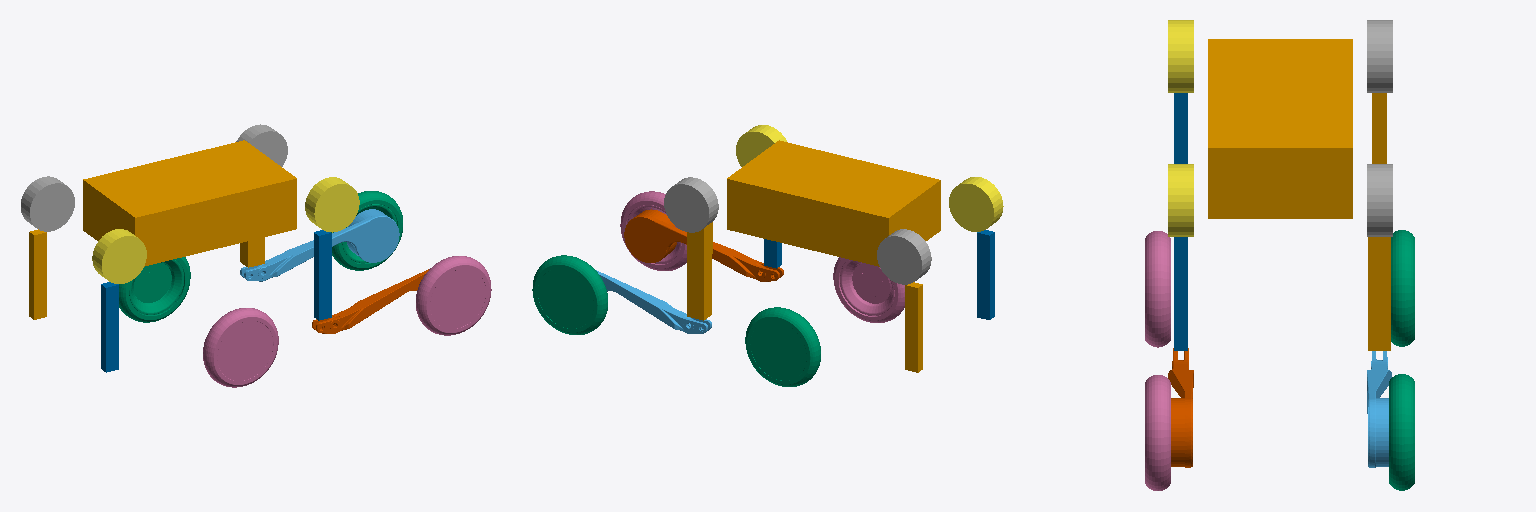
The robot description file, URDF, robot "b2w_description":
<?xml version='1.0' encoding='utf-8'?>
<robot name="b2w_description">
  <link name="base_link">
    <inertial>
      <origin xyz="0.000458 0.005261 0.000665" rpy="0 0 0" />
      <mass value="35.606" />
      <inertia ixx="0.27466" ixy="-0.000622" ixz="0.00315" iyy="1.0618" iyz="-0.00139" izz="1.1825" />
    </inertial>
    <visual>
      <origin xyz="0 0 0" rpy="0 0 0" />
      <geometry>
        <box size="0.5 0.28 0.15" />
      </geometry>
    </visual>
    <collision>
      <origin xyz="0 0 0" rpy="0 0 0" />
        <geometry>
          <box size="0.5 0.28 0.15" />
        </geometry>
    </collision>
  </link>
  <link name="lidar_link">
    <inertial>
      <origin xyz="0.34218 0 0.17851" rpy="0 0 0" />
      <mass value="4.19E-15" />
      <inertia ixx="1.68E-27" ixy="-3.2E-45" ixz="7.68E-44" iyy="1.68E-27" iyz="-9.26E-47" izz="1.68E-27" />
    </inertial>
    <collision>
      <origin xyz="0 0 -0.02" rpy="0 0 0" />
      <geometry>
        <cylinder length="0.16" radius="0.076" />
      </geometry>
    </collision>
  </link>
  <joint name="joint_lidar" type="fixed">
    <origin xyz="0.34218 0 0.17851" rpy="0 0 0" />
    <parent link="base_link" />
    <child link="lidar_link" />
    <axis xyz="0 0 0" />
  </joint>
  <link name="f_dc_link">
    <inertial>
      <origin xyz="3.47E-18 0 5.55E-17" rpy="0 0 0" />
      <mass value="4.19E-15" />
      <inertia ixx="1.68E-27" ixy="-9.81E-45" ixz="-2.54E-44" iyy="1.68E-27" iyz="0" izz="1.68E-27" />
    </inertial>
  </link>
  <joint name="joint_f_dc" type="fixed">
    <origin xyz="0.42161 0.025 0.061851" rpy="-2.3562 0 -1.5708" />
    <parent link="base_link" />
    <child link="f_dc_link" />
    <axis xyz="0 0 0" />
  </joint>
  <link name="r_dc_link">
    <inertial>
      <origin xyz="-7.46E-16 -3.33E-16 -1.11E-15" rpy="0 0 0" />
      <mass value="4.19E-15" />
      <inertia ixx="1.68E-27" ixy="-4.31E-44" ixz="2.48E-45" iyy="1.68E-27" iyz="0" izz="1.68E-27" />
    </inertial>
  </link>
  <joint name="joint_r_dc" type="fixed">
    <origin xyz="-0.42244 -0.025 0.038026" rpy="-2.3562 0 1.5708" />
    <parent link="base_link" />
    <child link="r_dc_link" />
    <axis xyz="0 0 0" />
  </joint>
  <link name="imu_link">
    <inertial>
      <origin xyz="-2.02E-17 1.73E-17 -1.39E-17" rpy="0 0 0" />
      <mass value="4.19E-15" />
      <inertia ixx="1.68E-27" ixy="1.84E-44" ixz="-7.35E-44" iyy="1.68E-27" iyz="-3.67E-44" izz="1.68E-27" />
    </inertial>
  </link>
  <joint name="joint_imu" type="fixed">
    <origin xyz="0 -0.02341 0.04927" rpy="0 0 0" />
    <parent link="base_link" />
    <child link="imu_link" />
    <axis xyz="0 0 0" />
  </joint>
  <link name="head_Link">
    <inertial>
      <origin xyz="0.33989 -0.000168 0.12029" rpy="0 0 0" />
      <mass value="3.6885" />
      <inertia ixx="0.026455" ixy="3.15E-05" ixz="0.00166" iyy="0.029221" iyz="-3.27E-05" izz="0.010918" />
    </inertial>
    <collision>
      <origin xyz="0.41 0 0.005" rpy="0 0 0" />
      <geometry>
        <box size="0.04 0.12 0.14" />
      </geometry>
    </collision>
  </link>
  <joint name="joint_head" type="fixed" dont_collapse="true">
    <origin xyz="0 0 0" rpy="0 0 0" />
    <parent link="base_link" />
    <child link="head_Link" />
    <axis xyz="0 0 0" />
  </joint>
  <link name="tail_link">
    <inertial>
      <origin xyz="-0.37448 0.000488 0.006495" rpy="0 0 0" />
      <mass value="0.795" />
      <inertia ixx="0.0028118" ixy="1.95E-05" ixz="-7.87E-06" iyy="0.0047506" iyz="-1.57E-05" izz="0.0029154" />
    </inertial>
    <collision>
      <origin xyz="-0.405 0 0.005" rpy="0 0 0" />
      <geometry>
        <box size="0.025 0.12 0.14" />
      </geometry>
    </collision>
  </link>
  <joint name="joint_tail" type="fixed" dont_collapse="true">
    <origin xyz="0 0 0" rpy="0 0 0" />
    <parent link="base_link" />
    <child link="tail_link" />
    <axis xyz="0 0 0" />
  </joint>
  <link name="FL_hip">
    <inertial>
      <origin xyz="-0.003841 -0.009068 0" rpy="0 0 0" />
      <mass value="2.673" />
      <inertia ixx="0.0033188" ixy="7.16E-05" ixz="-3.77E-07" iyy="0.0048743" iyz="4E-09" izz="0.0037087" />
    </inertial>
    <visual>
      <origin xyz="0 0.12 0" rpy="1.5707963267948966 0 0" />
      <geometry>
        <cylinder length="0.05" radius="0.07" />
      </geometry>
    </visual>
    <collision>
      <origin xyz="0 0.12 0" rpy="1.5707963267948966 0 0" />
      <geometry>
        <cylinder length="0.05" radius="0.07" />
      </geometry>
    </collision>
  </link>
  <joint name="FL_hip_joint" type="revolute">
    <origin xyz="0.3285 0.072 0" rpy="0 0 0" />
    <parent link="base_link" />
    <child link="FL_hip" />
    <axis xyz="1 0 0" />
    <limit lower="-0.87" upper="0.87" effort="200" velocity="23" />
  </joint>
  <link name="FL_thigh">
    <inertial>
      <origin xyz="-0.006279 -0.032049 -0.057835" rpy="0 0 0" />
      <mass value="4.536" />
      <inertia ixx="0.062299" ixy="0.00087781" ixz="-0.0036475" iyy="0.061399" iyz="0.0083537" izz="0.0081997" />
    </inertial>
    <visual>
      <origin xyz="-0.025 0 -0.16" rpy="0 1.57 0" />
      <geometry>
        <box size="0.32 0.0445 0.054" />
      </geometry>
    </visual>
    <collision>
      <origin xyz="-0.025 0 -0.16" rpy="0 1.57 0" />
      <geometry>
        <box size="0.32 0.0445 0.054" />
      </geometry>
    </collision>
  </link>
  <joint name="FL_thigh_joint" type="revolute">
    <origin xyz="0 0.11973 0" rpy="0 0 0" />
    <parent link="FL_hip" />
    <child link="FL_thigh" />
    <axis xyz="0 1 0" />
    <limit lower="-0.94" upper="4.69" effort="200" velocity="23" />
  </joint>
  <link name="FL_calf">
    <inertial>
      <origin xyz="0.005278 0.017301 -0.29778" rpy="0 0 0" />
      <mass value="2.2906" />
      <inertia ixx="0.029283" ixy="0.000221" ixz="-0.001064" iyy="0.030868" iyz="0.002093" izz="0.00326" />
    </inertial>
    <visual>
      <origin xyz="0 0 0" rpy="0 0 0" />
      <geometry>
        <mesh filename="../meshes/FL_calf.stl" />
      </geometry>
    </visual>
    <collision>
      <origin xyz="0 0 0" rpy="0 0 0" />
      <geometry>
        <mesh filename="../meshes/FL_calf.stl" />
      </geometry>
    </collision>
  </link>
  <joint name="FL_calf_joint" type="revolute">
    <origin xyz="0 -8.8203E-05 -0.35" rpy="0 0 0" />
    <parent link="FL_thigh" />
    <child link="FL_calf" />
    <axis xyz="0 1 0" />
    <limit lower="-2.82" upper="-0.43" effort="320" velocity="14" />
  </joint>
  <link name="FL_foot">
    <inertial>
      <origin xyz="-0.000991 0.051053 -0.00113" rpy="0 0 0" />
      <mass value="1.083" />
      <inertia ixx="0.004121" ixy="6E-06" ixz="-4.8E-05" iyy="0.007776" iyz="7E-06" izz="0.004108" />
    </inertial>
    <visual>
      <origin xyz="0 0 0" rpy="0 0 0" />
      <geometry>
        <mesh filename="../meshes/Left_wheel.stl" />
      </geometry>
    </visual>
    <collision>
      <origin xyz="0 0 0" rpy="0 0 0" />
      <geometry>
        <mesh filename="../meshes/Left_wheel.stl" />
      </geometry>
    </collision>
  </link>
  <joint name="FL_foot_joint" type="revolute">
    <origin xyz="0 0 -0.35" rpy="0 0 0" />
    <parent link="FL_calf" />
    <child link="FL_foot" />
    <axis xyz="0 1 0" />
    <limit lower="-999999" upper="999999" effort="20" velocity="50" />
  </joint>
  <link name="FR_hip">
    <inertial>
      <origin xyz="-0.003841 0.009068 0" rpy="0 0 0" />
      <mass value="2.673" />
      <inertia ixx="0.003318772" ixy="-7.16E-05" ixz="-3.77E-07" iyy="0.004874327" iyz="-4E-09" izz="0.003708731" />
    </inertial>
    <visual>
      <origin xyz="0 -0.12 0" rpy="1.5707963267948966 0 0" />
      <geometry>
        <cylinder length="0.05" radius="0.07" />
      </geometry>
    </visual>
    <collision>
      <origin xyz="0 -0.12 0" rpy="1.5707963267948966 0 0" />
      <geometry>
        <cylinder length="0.05" radius="0.07" />
      </geometry>
    </collision>
  </link>
  <joint name="FR_hip_joint" type="revolute">
    <origin xyz="0.3285 -0.072 0" rpy="0 0 0" />
    <parent link="base_link" />
    <child link="FR_hip" />
    <axis xyz="1 0 0" />
    <limit lower="-0.87" upper="0.87" effort="200" velocity="23" />
  </joint>
  <link name="FR_thigh">
    <inertial>
      <origin xyz="-0.006279 0.032049 -0.057835" rpy="0 0 0" />
      <mass value="4.536" />
      <inertia ixx="0.06229908" ixy="-0.000877808" ixz="-0.003647464" iyy="0.06139927" iyz="-0.008353671" izz="0.008199745" />
    </inertial>
    <visual>
      <origin rpy="0 1.57 0" xyz="-0.03 0 -0.2" />
      <geometry>
        <box size="0.25 0.028 0.04" />
      </geometry>
    </visual>
    <collision>
      <origin rpy="0 1.57 0" xyz="-0.03 0 -0.2" />
      <geometry>
        <box size="0.25 0.028 0.04" />
      </geometry>
    </collision>
  </link>
  <joint name="FR_thigh_joint" type="revolute">
    <origin xyz="0 -0.11973 0" rpy="0 0 0" />
    <parent link="FR_hip" />
    <child link="FR_thigh" />
    <axis xyz="0 1 0" />
    <limit lower="-0.94" upper="4.69" effort="200" velocity="23" />
  </joint>
  <link name="FR_calf">
    <inertial>
      <origin xyz="0.005278 -0.017301 -0.297775" rpy="0 0 0" />
      <mass value="2.290557" />
      <inertia ixx="0.029283" ixy="-0.000221" ixz="-0.001064" iyy="0.030868" iyz="-0.002093" izz="0.00326" />
    </inertial>
    <visual>
      <origin xyz="0 0 0" rpy="0 0 0" />
      <geometry>
        <mesh filename="../meshes/FR_calf.stl" />
      </geometry>
    </visual>
    <collision>
      <origin xyz="0 0 0" rpy="0 0 0" />
      <geometry>
        <mesh filename="../meshes/FR_calf.stl" />
      </geometry>
    </collision>
  </link>
  <joint name="FR_calf_joint" type="revolute">
    <origin xyz="0 8.8205E-05 -0.35" rpy="0 0 0" />
    <parent link="FR_thigh" />
    <child link="FR_calf" />
    <axis xyz="0 1 0" />
    <limit lower="-2.82" upper="-0.43" effort="320" velocity="14" />
  </joint>
  <link name="FR_foot">
    <inertial>
      <origin xyz="-0.000991 -0.051053 -0.00113" rpy="0 0 0" />
      <mass value="1.083" />
      <inertia ixx="0.004121" ixy="-6E-06" ixz="-4.8E-05" iyy="0.007776" iyz="-7E-06" izz="0.004108" />
    </inertial>
    <visual>
      <origin xyz="0.0 -0.0 0" rpy="0 -1.5708 0" />
      <geometry>
        <mesh filename="../meshes/Right_wheel.stl" />

        <!-- <cylinder radius="0.112" length="0.05"/>  -->
 
      </geometry>
    </visual>
    <collision>
      <origin xyz="0.0 -0.0 0" rpy="0 -1.5708 0" />
      <geometry>
        <mesh filename="../meshes/Right_wheel.stl" />

        <!-- <cylinder radius="0.112" length="0.05"/>  -->
 
      </geometry>
    </collision>
  </link>
  <joint name="FR_foot_joint" type="revolute">
    <origin xyz="0 -0.001 -0.35" rpy="0 0 0" />
    <parent link="FR_calf" />
    <child link="FR_foot" />
    <axis xyz="0 1 0" />
    <limit lower="-999999" upper="999999" effort="20" velocity="50" />
  </joint>
  <link name="RL_hip">
    <inertial>
      <origin xyz="0.003841 -0.009068 0" rpy="0 0 0" />
      <mass value="2.673" />
      <inertia ixx="0.0033188" ixy="-7.16E-05" ixz="3.77E-07" iyy="0.0048743" iyz="4E-09" izz="0.0037087" />
    </inertial>
    <visual>
      <origin xyz="0 0.12 0" rpy="1.5707963267948966 0 0" />
      <geometry>
        <cylinder length="0.05" radius="0.07" />
      </geometry>
    </visual>
    <collision>
      <origin xyz="0 0.12 0" rpy="1.5707963267948966 0 0" />
      <geometry>
        <cylinder length="0.05" radius="0.07" />
      </geometry>
    </collision>
  </link>
  <joint name="RL_hip_joint" type="revolute">
    <origin xyz="-0.3285 0.072 0" rpy="0 0 0" />
    <parent link="base_link" />
    <child link="RL_hip" />
    <axis xyz="1 0 0" />
    <limit lower="-0.87" upper="0.87" effort="200" velocity="23" />
  </joint>
  <link name="RL_thigh">
    <inertial>
      <origin xyz="-0.006279 -0.032049 -0.057835" rpy="0 0 0" />
      <mass value="4.536" />
      <inertia ixx="0.06229908" ixy="0.000877808" ixz="-0.003647464" iyy="0.06139927" iyz="0.008353671" izz="0.008199745" />
    </inertial>
    <visual>
      <origin rpy="0 1.57 0" xyz="-0.03 0 -0.2" />
      <geometry>
        <box size="0.25 0.028 0.04" />
      </geometry>
    </visual>
    <collision>
      <origin rpy="0 1.57 0" xyz="-0.03 0 -0.2" />
      <geometry>
        <box size="0.25 0.028 0.04" />
      </geometry>
    </collision>
  </link>
  <joint name="RL_thigh_joint" type="revolute">
    <origin xyz="0 0.11973 0" rpy="0 0 0" />
    <parent link="RL_hip" />
    <child link="RL_thigh" />
    <axis xyz="0 1 0" />
    <limit lower="-0.94" upper="4.69" effort="200" velocity="23" />
  </joint>
  <link name="RL_calf">
    <inertial>
      <origin xyz="0.005278 0.017301 -0.29778" rpy="0 0 0" />
      <mass value="2.2906" />
      <inertia ixx="0.029283" ixy="0.000221" ixz="-0.001064" iyy="0.030868" iyz="0.002093" izz="0.00326" />
    </inertial>
    <visual>
      <origin xyz="0 0 0" rpy="0 0 0" />
      <geometry>
        <mesh filename="../meshes/RL_calf.stl" />
      </geometry>
    </visual>
    <collision>
      <origin xyz="0 0 0" rpy="0 0 0" />
      <geometry>
        <mesh filename="../meshes/RL_calf.stl" />
      </geometry>
    </collision>
  </link>
  <joint name="RL_calf_joint" type="revolute">
    <origin xyz="0 -8.8205E-05 -0.35" rpy="0 0 0" />
    <parent link="RL_thigh" />
    <child link="RL_calf" />
    <axis xyz="0 1 0" />
    <limit lower="-2.82" upper="-0.43" effort="320" velocity="14" />
  </joint>
  <link name="RL_foot">
    <inertial>
      <origin xyz="-0.000991 0.051053 -0.00113" rpy="0 0 0" />
      <mass value="1.083" />
      <inertia ixx="0.004121" ixy="6E-06" ixz="-4.8E-05" iyy="0.007776" iyz="7E-06" izz="0.004108" />
    </inertial>
    <visual>
      <origin xyz="0 0 0" rpy="0 0 0" />
      <geometry>
        <mesh filename="../meshes/Left_wheel.stl" />
      </geometry>
    </visual>
    <collision>
      <origin xyz="0 0 0" rpy="0 0 0" />
      <geometry>
        <mesh filename="../meshes/Left_wheel.stl" />
      </geometry>
    </collision>
  </link>
  <joint name="RL_foot_joint" type="revolute">
    <origin xyz="0 0 -0.35" rpy="0 0 0" />
    <parent link="RL_calf" />
    <child link="RL_foot" />
    <axis xyz="0 1 0" />
    <limit lower="-999999" upper="999999" effort="20" velocity="50" />
  </joint>
  <link name="RR_hip">
    <inertial>
      <origin xyz="0.003841 0.009068 0" rpy="0 0 0" />
      <mass value="2.673" />
      <inertia ixx="0.0033188" ixy="7.16E-05" ixz="3.77E-07" iyy="0.0048743" iyz="-4E-09" izz="0.0037087" />
    </inertial>
    <visual>
      <origin xyz="0 -0.12 0" rpy="1.5707963267948966 0 0" />
      <geometry>
        <cylinder length="0.05" radius="0.07" />
      </geometry>
    </visual>
    <collision>
      <origin xyz="0 -0.12 0" rpy="1.5707963267948966 0 0" />
      <geometry>
        <cylinder length="0.05" radius="0.07" />
      </geometry>
    </collision>
  </link>
  <joint name="RR_hip_joint" type="revolute">
    <origin xyz="-0.3285 -0.072 0" rpy="0 0 0" />
    <parent link="base_link" />
    <child link="RR_hip" />
    <axis xyz="1 0 0" />
    <limit lower="-0.87" upper="0.87" effort="200" velocity="23" />
  </joint>
  <link name="RR_thigh">
    <inertial>
      <origin xyz="-0.006279 0.032049 -0.057835" rpy="0 0 0" />
      <mass value="4.536" />
      <inertia ixx="0.062299" ixy="-0.00087781" ixz="-0.0036475" iyy="0.061399" iyz="-0.0083537" izz="0.0081997" />
    </inertial>
    <visual>
      <origin rpy="0 1.57 0" xyz="-0.03 0 -0.2" />
      <geometry>
        <box size="0.25 0.028 0.04" />
      </geometry>
    </visual>
    <collision>
      <origin rpy="0 1.57 0" xyz="-0.03 0 -0.2" />
      <geometry>
        <box size="0.25 0.028 0.04" />
      </geometry>
    </collision>
  </link>
  <joint name="RR_thigh_joint" type="revolute">
    <origin xyz="0 -0.11973 0" rpy="0 0 0" />
    <parent link="RR_hip" />
    <child link="RR_thigh" />
    <axis xyz="0 1 0" />
    <limit lower="-0.94" upper="4.69" effort="200" velocity="23" />
  </joint>
  <link name="RR_calf">
    <inertial>
      <origin xyz="0.005278 -0.017301 -0.29778" rpy="0 0 0" />
      <mass value="2.2906" />
      <inertia ixx="0.029283" ixy="-0.000221" ixz="-0.001064" iyy="0.030868" iyz="-0.002093" izz="0.00326" />
    </inertial>
    <visual>
      <origin xyz="0 0 0" rpy="0 0 0" />
      <geometry>
        <mesh filename="../meshes/RR_calf.stl" />
      </geometry>
    </visual>
    <collision>
      <origin xyz="0 0 0" rpy="0 0 0" />
      <geometry>
        <mesh filename="../meshes/RR_calf.stl" />
      </geometry>
    </collision>
  </link>
  <joint name="RR_calf_joint" type="revolute">
    <origin xyz="0 8.8205E-05 -0.35" rpy="0 0 0" />
    <parent link="RR_thigh" />
    <child link="RR_calf" />
    <axis xyz="0 1 0" />
    <limit lower="-2.82" upper="-0.43" effort="320" velocity="14" />
  </joint>
  <link name="RR_foot">
    <inertial>
      <origin xyz="-0.000991 -0.051053 -0.00113" rpy="0 0 0" />
      <mass value="1.083" />
      <inertia ixx="0.004121" ixy="-6E-06" ixz="-4.8E-05" iyy="0.007776" iyz="-7E-06" izz="0.004108" />
    </inertial>
    <visual>
      <origin xyz="0.0 -0 0" rpy="0 -1.5708 0" />
      <geometry>
        <mesh filename="../meshes/Right_wheel.stl" />
        
        <!-- <cylinder radius="0.112" length="0.05"/> 根据轮子半径和厚度修改 -->
 
      </geometry>
    </visual>
    <collision>
      <origin xyz="0.0 -0 0" rpy="0 -1.5708 0" />
      <geometry>
        <mesh filename="../meshes/Right_wheel.stl" />

        <!-- <cylinder radius="0.112" length="0.05"/>  -->
 
      </geometry>
    </collision>
  </link>
  <joint name="RR_foot_joint" type="revolute">
    <origin xyz="0 -0.001 -0.35" rpy="0 0 0" />
    <parent link="RR_calf" />
    <child link="RR_foot" />
    <axis xyz="0 1 0" />
    <limit lower="-999999" upper="999999" effort="20" velocity="50" />
  </joint>
  <link name="f_oc_link">
    <inertial>
      <origin xyz="-3.39E-15 1.46E-16 -6.11E-16" rpy="0 0 0" />
      <mass value="4.19E-15" />
      <inertia ixx="1.68E-27" ixy="-3.89E-44" ixz="5.04E-44" iyy="1.68E-27" iyz="2.81E-45" izz="1.68E-27" />
    </inertial>
  </link>
  <joint name="f_oc_link" type="fixed">
    <origin xyz="0.3993 0 -0.01576" rpy="-1.5708 0 -1.5708" />
    <parent link="base_link" />
    <child link="f_oc_link" />
    <axis xyz="0 0 0" />
  </joint>
  <link name="logo_link">
    <inertial>
      <origin xyz="0 -2.3E-23 0" rpy="0 0 0" />
      <mass value="4.19E-15" />
      <inertia ixx="1.68E-27" ixy="0" ixz="0" iyy="1.68E-27" iyz="0" izz="1.68E-27" />
    </inertial>
  </link>
  <joint name="joint_logo" type="fixed">
    <origin xyz="0 0 0" rpy="0 0 0" />
    <parent link="base_link" />
    <child link="logo_link" />
    <axis xyz="0 0 0" />
  </joint>
  <link name="r_oc_ink">
    <inertial>
      <origin xyz="-0.39143 1.52E-07 -0.011961" rpy="0 0 0" />
      <mass value="4.19E-12" />
      <inertia ixx="1.68E-22" ixy="9.03E-39" ixz="0" iyy="1.68E-22" iyz="-1.2E-38" izz="1.68E-22" />
    </inertial>
  </link>
  <joint name="joint_r_oc" type="fixed">
    <origin xyz="-0.39143 0 -0.026131" rpy="-1.5708 0 1.5708" />
    <parent link="base_link" />
    <child link="r_oc_ink" />
    <axis xyz="0 0 0" />
  </joint>
</robot>

--- What the picture shows (computed from the rendered views, not written in the file) ---
Views: 3 orthographic renders of the robot side by side, from view 1: azimuth 30°, elevation 25°; view 2: azimuth 150°, elevation 25°; view 3: azimuth 270°, elevation 25°.
Robot: b2w_description — 26 links, 25 joints (16 revolute, 9 fixed); root link base_link; default pose: all joints at 0 but 4 set to mid-range because 0 is outside their limits (FL_calf_joint = -1.62, FR_calf_joint = -1.62, RL_calf_joint = -1.62, RR_calf_joint = -1.62).
Visible links, largest first — view 1: base_link, FR_foot, RR_foot, FL_calf, RL_foot, RL_hip, FR_hip, RR_hip, FR_calf, FL_foot, FR_thigh, RR_thigh (+3 smaller); view 2: base_link, RL_foot, FL_foot, FR_calf, RR_foot, FL_hip, RL_hip, RR_hip, FL_thigh, FL_calf, RR_thigh, RL_thigh (+2 smaller); view 3: base_link, FL_foot, RR_foot, FR_foot, RL_foot, FL_thigh, FR_calf, FL_calf, FL_hip, FR_hip, RL_hip, RR_hip (+3 smaller).
Link boxes in pixels (x1=…): base_link: x1=83, y1=140, x2=296, y2=266; FR_foot: x1=416, y1=256, x2=491, y2=335; RR_foot: x1=203, y1=308, x2=278, y2=387; FL_calf: x1=240, y1=209, x2=399, y2=281; RL_foot: x1=119, y1=257, x2=190, y2=322; RL_hip: x1=21, y1=176, x2=74, y2=231; FR_hip: x1=305, y1=177, x2=359, y2=232; RR_hip: x1=92, y1=229, x2=146, y2=283; FR_calf: x1=312, y1=269, x2=428, y2=333; FL_foot: x1=331, y1=191, x2=402, y2=270; FR_thigh: x1=314, y1=230, x2=331, y2=320; RR_thigh: x1=101, y1=282, x2=118, y2=372; base_link: x1=727, y1=140, x2=940, y2=266; RL_foot: x1=745, y1=307, x2=820, y2=386; FL_foot: x1=532, y1=255, x2=607, y2=334; FR_calf: x1=624, y1=209, x2=783, y2=281; RR_foot: x1=833, y1=257, x2=904, y2=322; FL_hip: x1=664, y1=177, x2=718, y2=232; RL_hip: x1=877, y1=229, x2=931, y2=284; RR_hip: x1=949, y1=177, x2=1003, y2=231; FL_thigh: x1=687, y1=222, x2=712, y2=320; FL_calf: x1=596, y1=270, x2=711, y2=333; RR_thigh: x1=977, y1=230, x2=994, y2=319; RL_thigh: x1=905, y1=282, x2=922, y2=372; base_link: x1=1208, y1=39, x2=1352, y2=218; FL_foot: x1=1389, y1=374, x2=1414, y2=490; RR_foot: x1=1145, y1=231, x2=1170, y2=347; FR_foot: x1=1145, y1=375, x2=1170, y2=490; RL_foot: x1=1391, y1=230, x2=1414, y2=346; FL_thigh: x1=1368, y1=237, x2=1390, y2=350; FR_calf: x1=1168, y1=348, x2=1193, y2=467; FL_calf: x1=1367, y1=351, x2=1391, y2=467; FL_hip: x1=1367, y1=164, x2=1392, y2=236; FR_hip: x1=1168, y1=164, x2=1193, y2=236; RL_hip: x1=1367, y1=20, x2=1392, y2=92; RR_hip: x1=1168, y1=20, x2=1193, y2=92.
Bounding box of the posed robot: 1.19 × 0.5207 × 0.5198 m (x, y, z).
6 mesh visuals loaded from 6 distinct referenced files (4 binary STL); not drawn: 2 (reference not matched to a file when rendering).